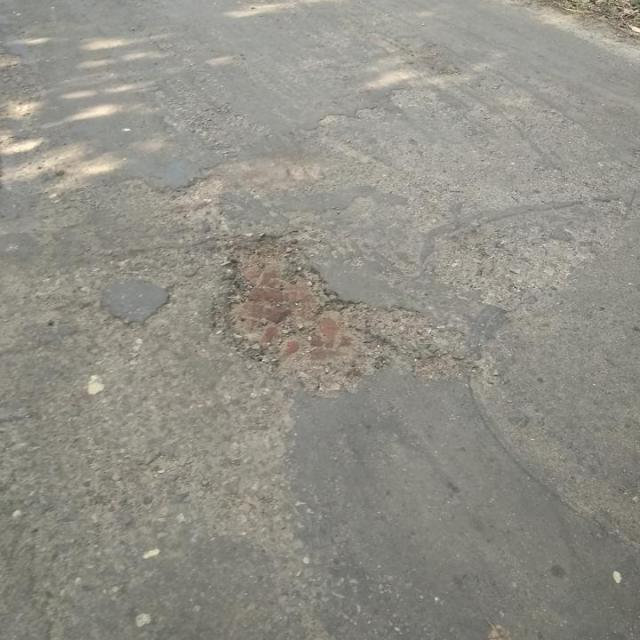Pothole: (211, 227, 390, 393)
